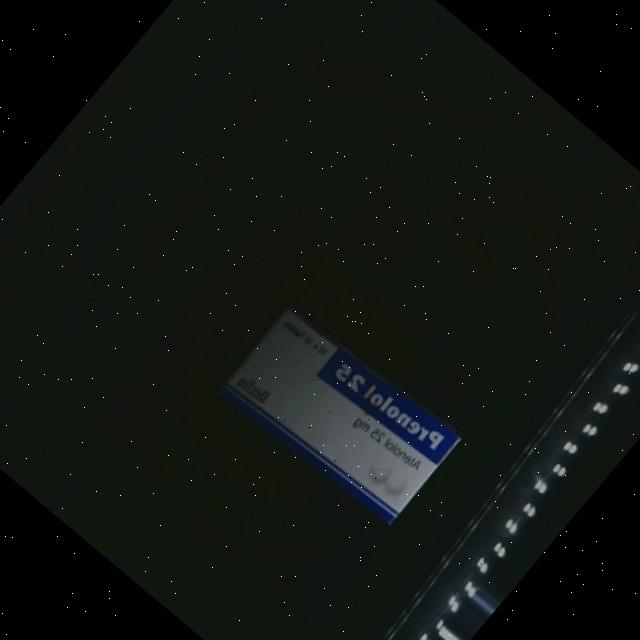prenolol: (221, 302, 461, 521)
